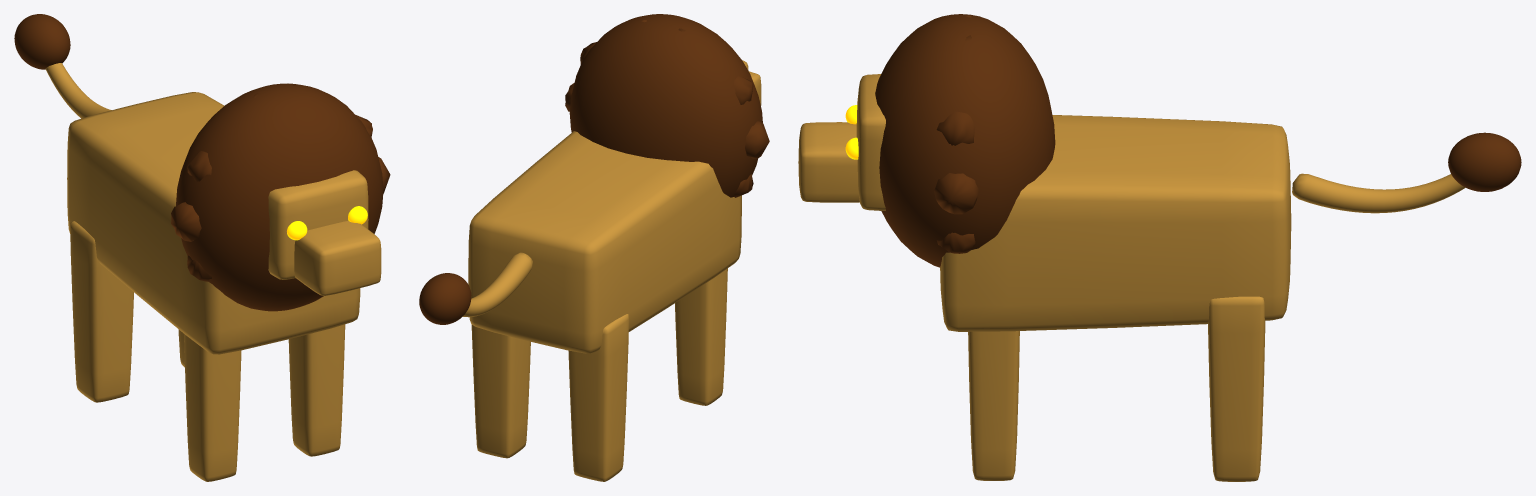
File: lion.glb
3 views of the same model, side by side, from view 1: azimuth 30°, elevation 25°; view 2: azimuth 150°, elevation 25°; view 3: azimuth 270°, elevation 25° (orthographic). The views are drawn at different scales.
Visible parts, largest first — view 1: Head, Body, LeftLeg, LeftArm, RightArm, Tail; view 2: Body, Head, LeftLeg, RightLeg, LeftArm, Tail; view 3: Body, Head, RightLeg, Tail, RightArm.
Part boxes in pixels (box(x1,y1,x2,y2)): Head: box(171, 83, 390, 311); Body: box(67, 92, 360, 354); LeftLeg: box(70, 221, 133, 402); LeftArm: box(184, 334, 241, 481); RightArm: box(288, 324, 345, 456); Tail: box(14, 14, 111, 118); Body: box(468, 131, 741, 353); Head: box(565, 14, 769, 197); LeftLeg: box(568, 314, 628, 481); RightLeg: box(471, 325, 530, 458); LeftArm: box(675, 268, 727, 405); Tail: box(419, 252, 532, 324); Body: box(940, 115, 1291, 331); Head: box(798, 14, 1055, 267); RightLeg: box(1208, 296, 1265, 481); Tail: box(1292, 132, 1521, 213); RightArm: box(968, 331, 1019, 480).
Size of the model in its own units: 0.9845 by 1.69 by 2.62.
